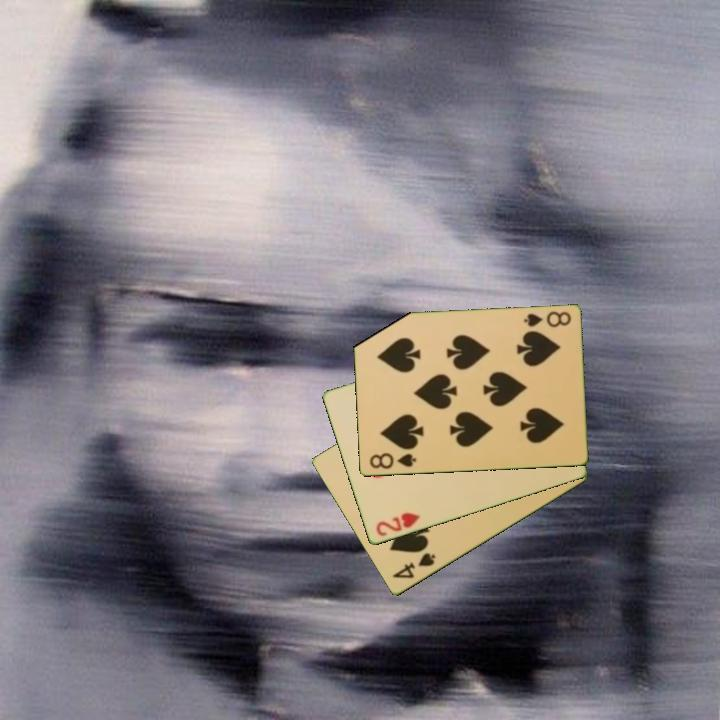2h: (372, 509, 422, 539)
4s: (388, 550, 439, 582)
8s: (366, 449, 419, 472), (520, 308, 573, 330)
